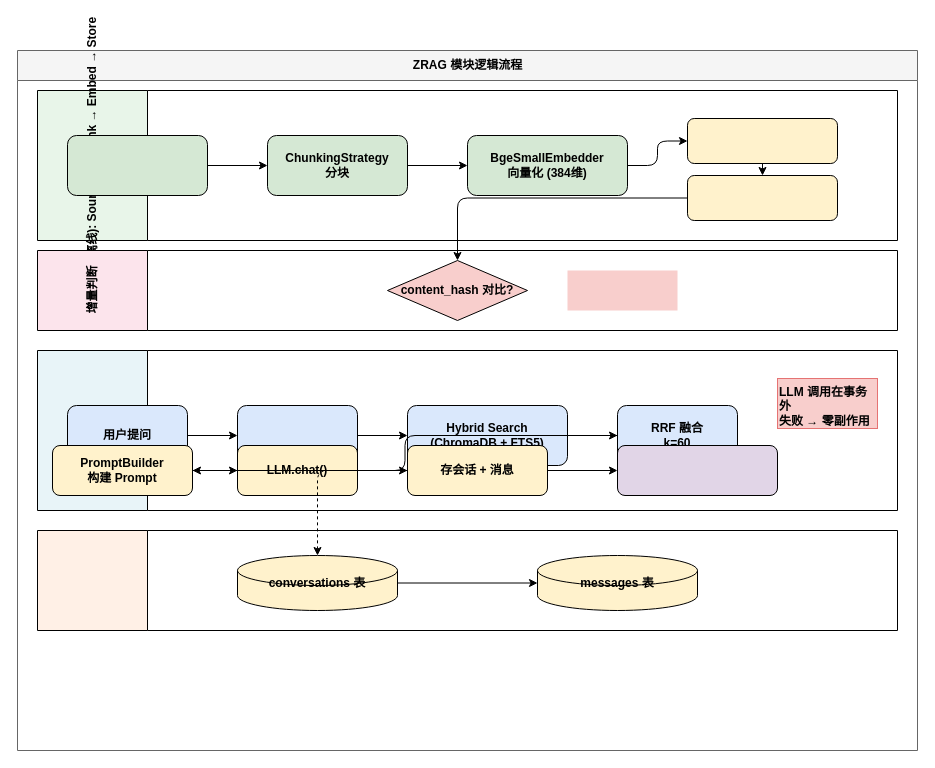
Some shapes in this 935 by 768 pixel diagram are drawn without their labels. Here are the shapes that lost their labels. From the top down, the box of each, then its label:
(686, 118, 838, 164): SQLite 事务写入 chunks + FTS5
(66, 134, 208, 196): DocumentSource macOS Notes
(686, 174, 838, 220): ChromaDB 写入 向量存储
(567, 270, 677, 310): 相同 → 跳过
(236, 404, 358, 466): Embed Query
(36, 350, 898, 510): 查询流程 (在线): Embed → Hybrid Search → RRF → Prompt → LLM
(616, 444, 778, 496): 返回回答 + Sources
